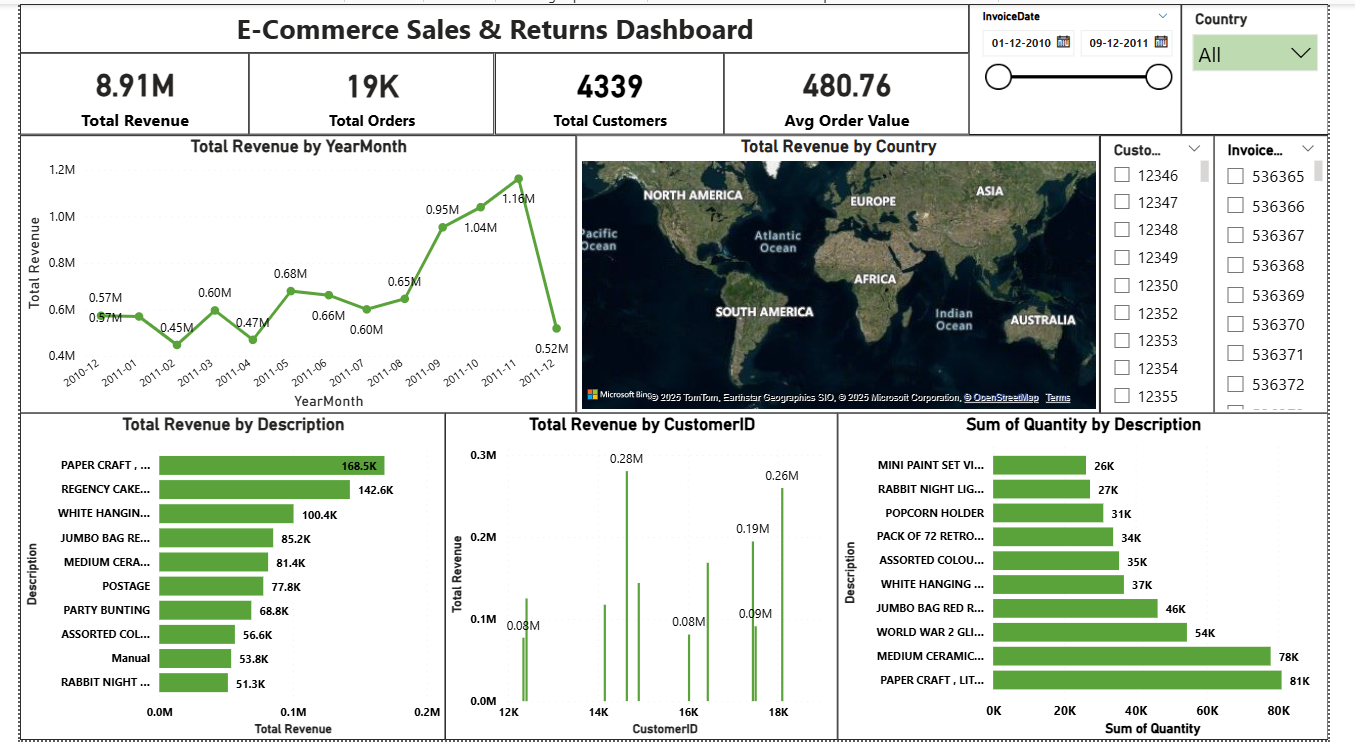

What the dashboard file says about the page in this screenshot:
{"tool":"powerbi","page":{"name":"Page 1","canvas":[1280,720],"ordinal":0},"visuals":[{"type":"card","fields":{"Values":["Cleaned_Ecommerce_Sales.Total Revenue"]},"box":[0,48,224,80],"z":0},{"type":"card","fields":{"Values":["Cleaned_Ecommerce_Sales.Total Orders"]},"box":[224,48,240,80],"z":1000},{"type":"card","fields":{"Values":["Cleaned_Ecommerce_Sales.Total Customers"]},"box":[464,48,224,80],"z":2000},{"type":"card","fields":{"Values":["Cleaned_Ecommerce_Sales.Avg Order Value"]},"box":[688,48,240,80],"z":3000},{"type":"lineChart","fields":{"Category":["Cleaned_Ecommerce_Sales.YearMonth"],"Y":["Cleaned_Ecommerce_Sales.Total Revenue"]},"box":[0,128,544,272],"z":4000},{"type":"clusteredBarChart","fields":{"Category":["Cleaned_Ecommerce_Sales.Description"],"Y":["Cleaned_Ecommerce_Sales.Total Revenue"]},"box":[0,400,416,320],"z":5000},{"type":"filledMap","fields":{"Category":["Cleaned_Ecommerce_Sales.Country"]},"box":[544,128,512,272],"z":6000},{"type":"clusteredColumnChart","fields":{"Y":["Cleaned_Ecommerce_Sales.Total Revenue"],"Category":["Cleaned_Ecommerce_Sales.CustomerID"]},"box":[416,400,384,320],"z":6001},{"type":"clusteredBarChart","fields":{"Category":["Cleaned_Ecommerce_Sales.Description"],"Y":["Sum(Cleaned_Ecommerce_Sales.Quantity)"]},"box":[800,400,480,320],"z":6002},{"type":"textbox","box":[0,0,928,48],"z":6003},{"type":"slicer","fields":{"Values":["Cleaned_Ecommerce_Sales.InvoiceDate"]},"box":[928,0,208,128],"z":6004},{"type":"slicer","fields":{"Values":["Cleaned_Ecommerce_Sales.Country"]},"box":[1136,0,144,128],"z":6005},{"type":"slicer","fields":{"Values":["Cleaned_Ecommerce_Sales.CustomerID"]},"box":[1056,128,112,272],"z":6006},{"type":"slicer","fields":{"Values":["Cleaned_Ecommerce_Sales.InvoiceNo"]},"box":[1168,128,112,272],"z":6007}]}

Visuals, with their boxes in screenshot pixels (x1, y1, x2, y2), scaled from the page's 1280x720 canvas onto the 1355x748 screenshot:
card - Cleaned_Ecommerce_Sales.Total Revenue: [x1=0, y1=50, x2=237, y2=133]
card - Cleaned_Ecommerce_Sales.Total Orders: [x1=237, y1=50, x2=491, y2=133]
card - Cleaned_Ecommerce_Sales.Total Customers: [x1=491, y1=50, x2=728, y2=133]
card - Cleaned_Ecommerce_Sales.Avg Order Value: [x1=728, y1=50, x2=982, y2=133]
lineChart - Cleaned_Ecommerce_Sales.YearMonth x Cleaned_Ecommerce_Sales.Total Revenue: [x1=0, y1=133, x2=576, y2=416]
clusteredBarChart - Cleaned_Ecommerce_Sales.Description x Cleaned_Ecommerce_Sales.Total Revenue: [x1=0, y1=416, x2=440, y2=747]
filledMap - Cleaned_Ecommerce_Sales.Country: [x1=576, y1=133, x2=1118, y2=416]
clusteredColumnChart - Cleaned_Ecommerce_Sales.Total Revenue x Cleaned_Ecommerce_Sales.CustomerID: [x1=440, y1=416, x2=847, y2=747]
clusteredBarChart - Cleaned_Ecommerce_Sales.Description x Sum(Cleaned_Ecommerce_Sales.Quantity): [x1=847, y1=416, x2=1354, y2=747]
textbox: [x1=0, y1=0, x2=982, y2=50]
slicer - Cleaned_Ecommerce_Sales.InvoiceDate: [x1=982, y1=0, x2=1203, y2=133]
slicer - Cleaned_Ecommerce_Sales.Country: [x1=1203, y1=0, x2=1354, y2=133]
slicer - Cleaned_Ecommerce_Sales.CustomerID: [x1=1118, y1=133, x2=1236, y2=416]
slicer - Cleaned_Ecommerce_Sales.InvoiceNo: [x1=1236, y1=133, x2=1354, y2=416]
